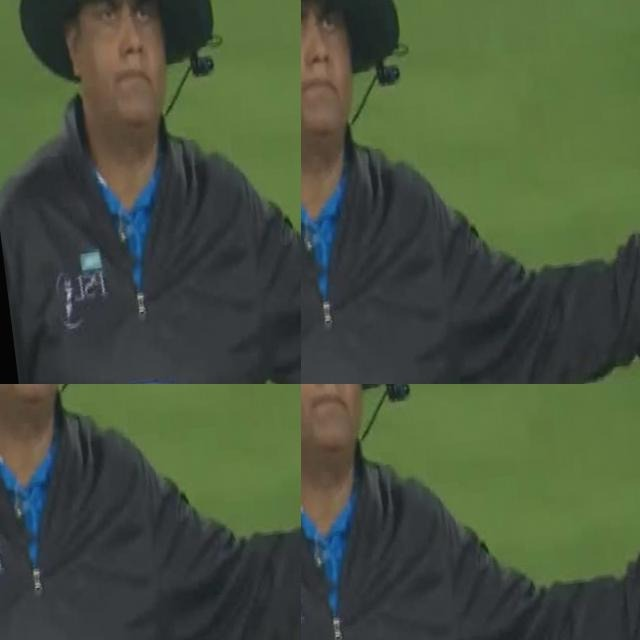No_Action: (145, 0, 301, 304)
No_Ball: (0, 384, 301, 640)
Out: (544, 384, 640, 640)
Six: (301, 0, 522, 384)
